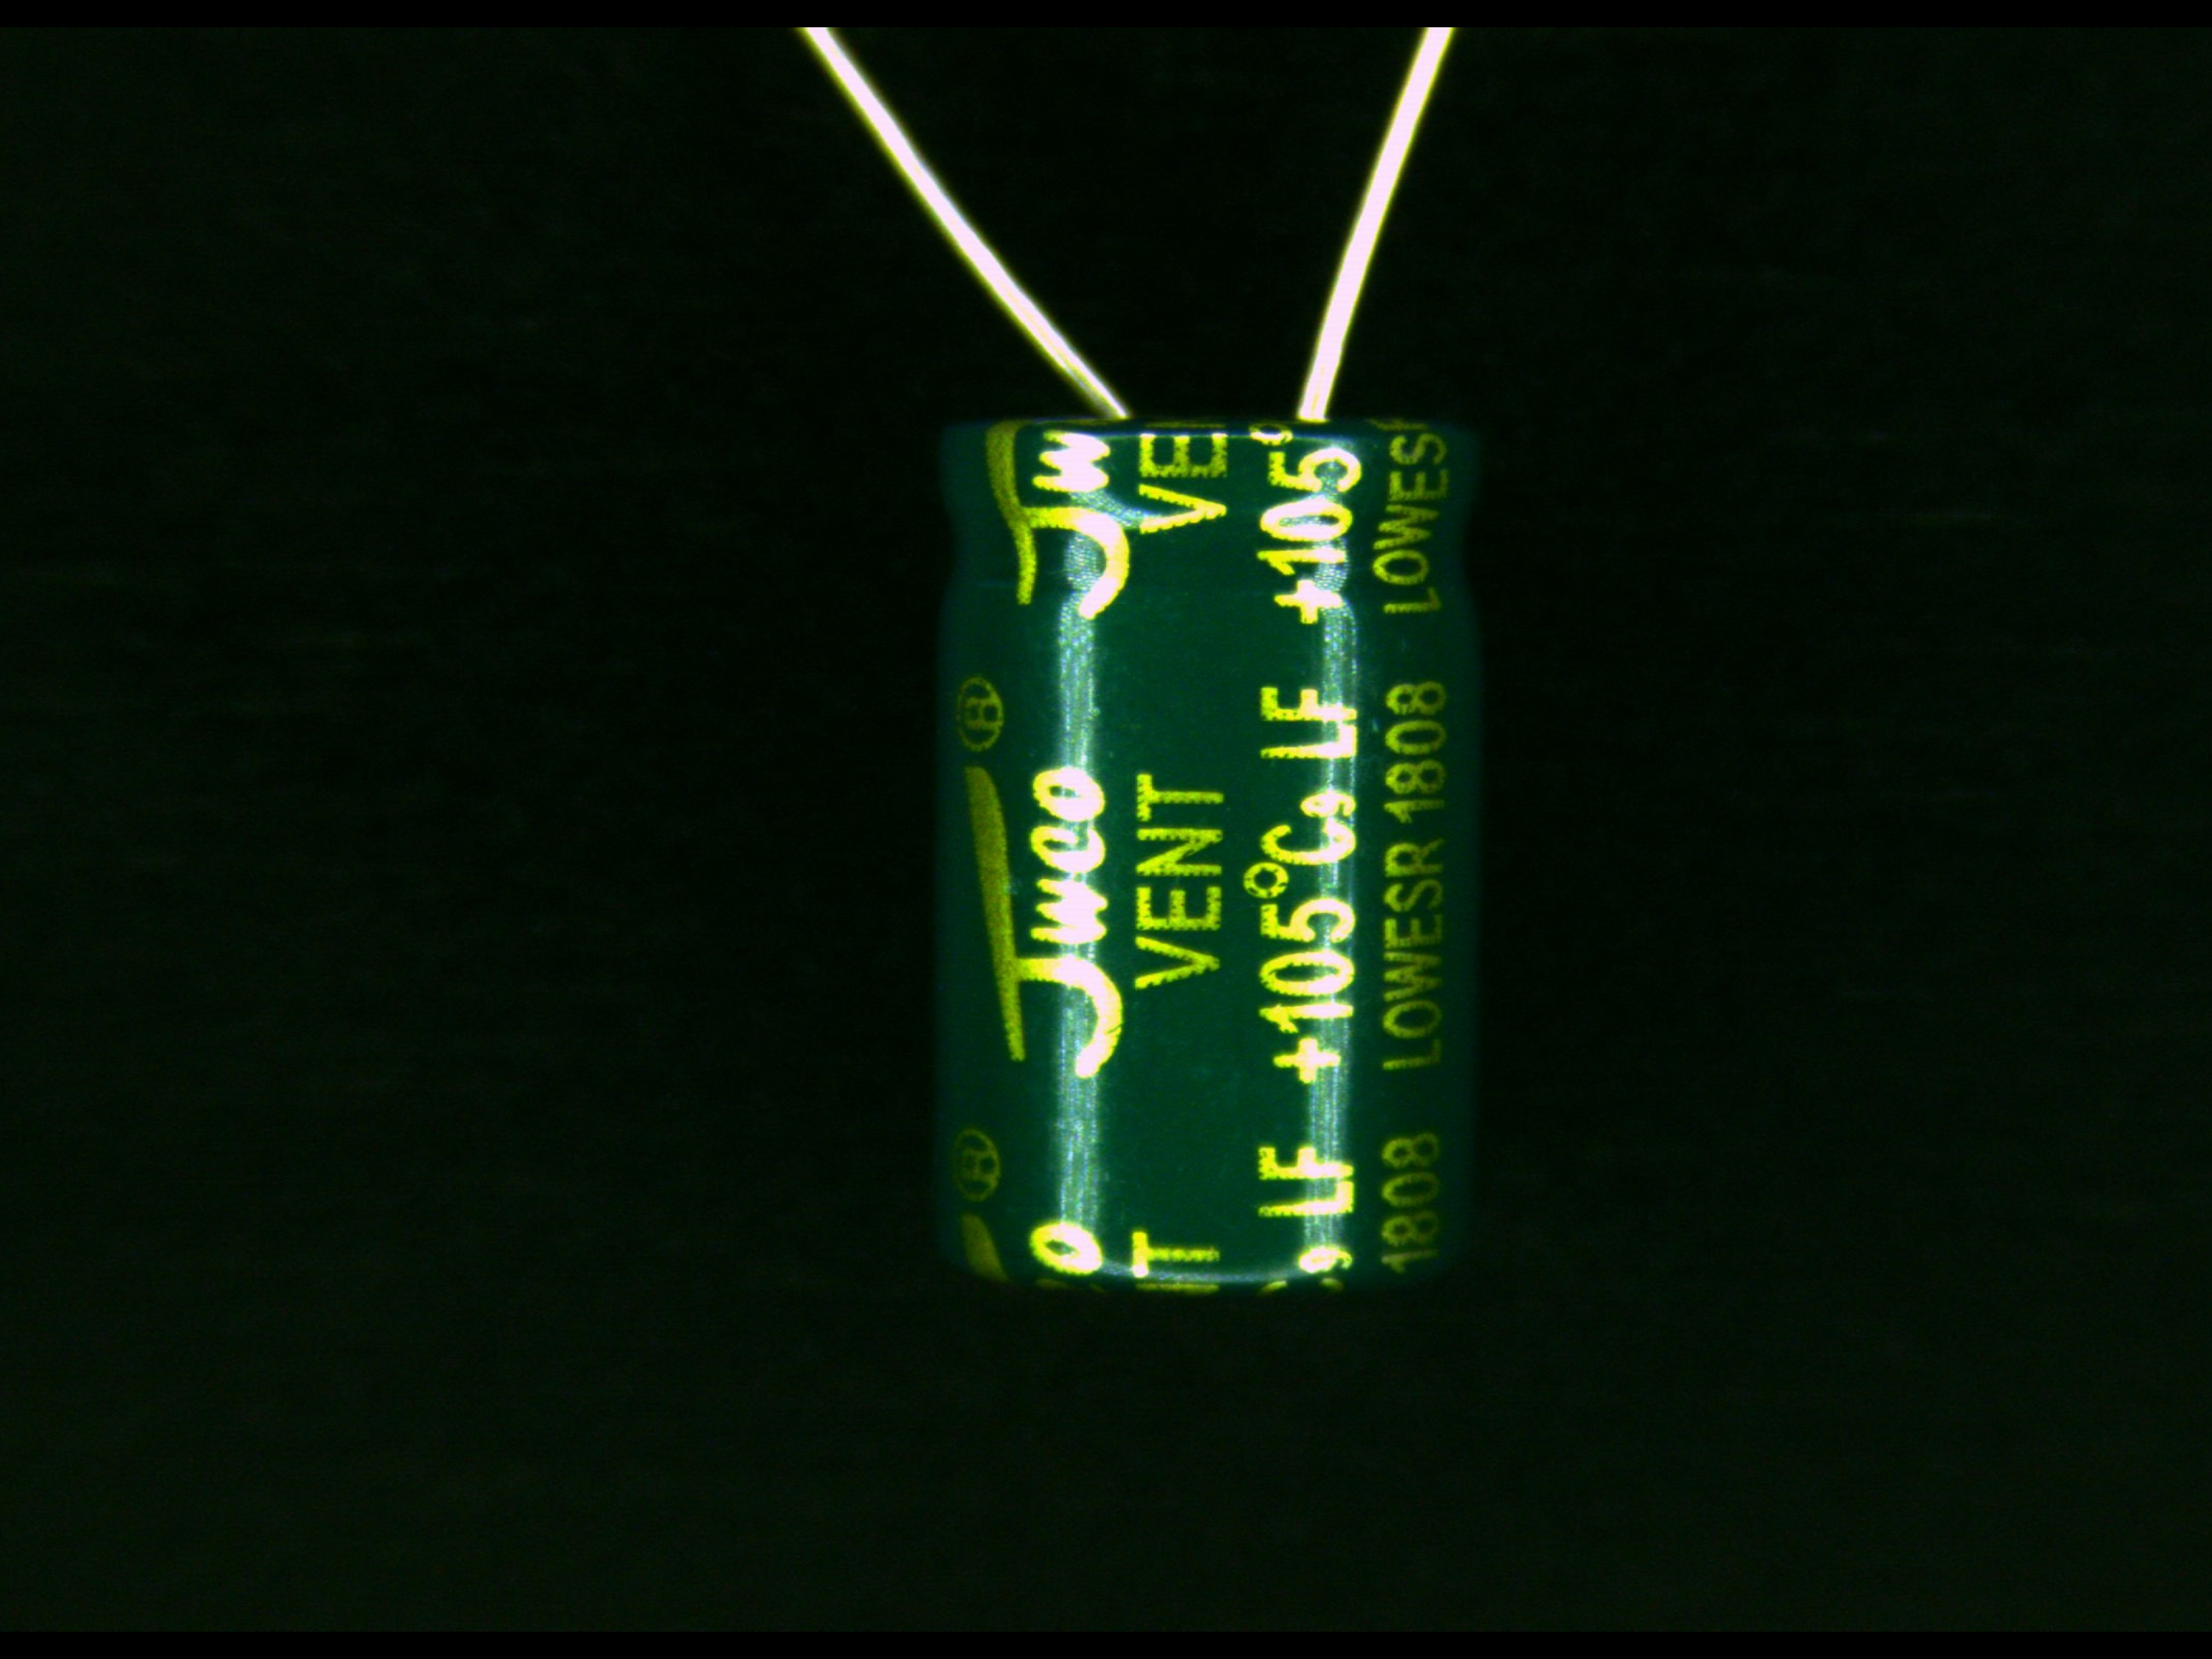c1: (925, 214, 1486, 1298)
